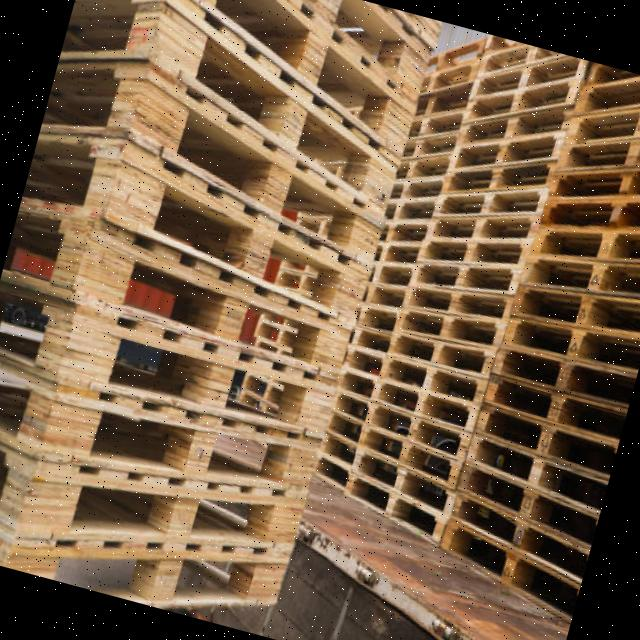Wooden-Pallets: (141, 0, 408, 230), (104, 131, 381, 335), (46, 293, 344, 443), (13, 460, 312, 564), (346, 441, 460, 530), (364, 376, 477, 440), (388, 299, 508, 357), (439, 132, 565, 183), (425, 212, 536, 250)
